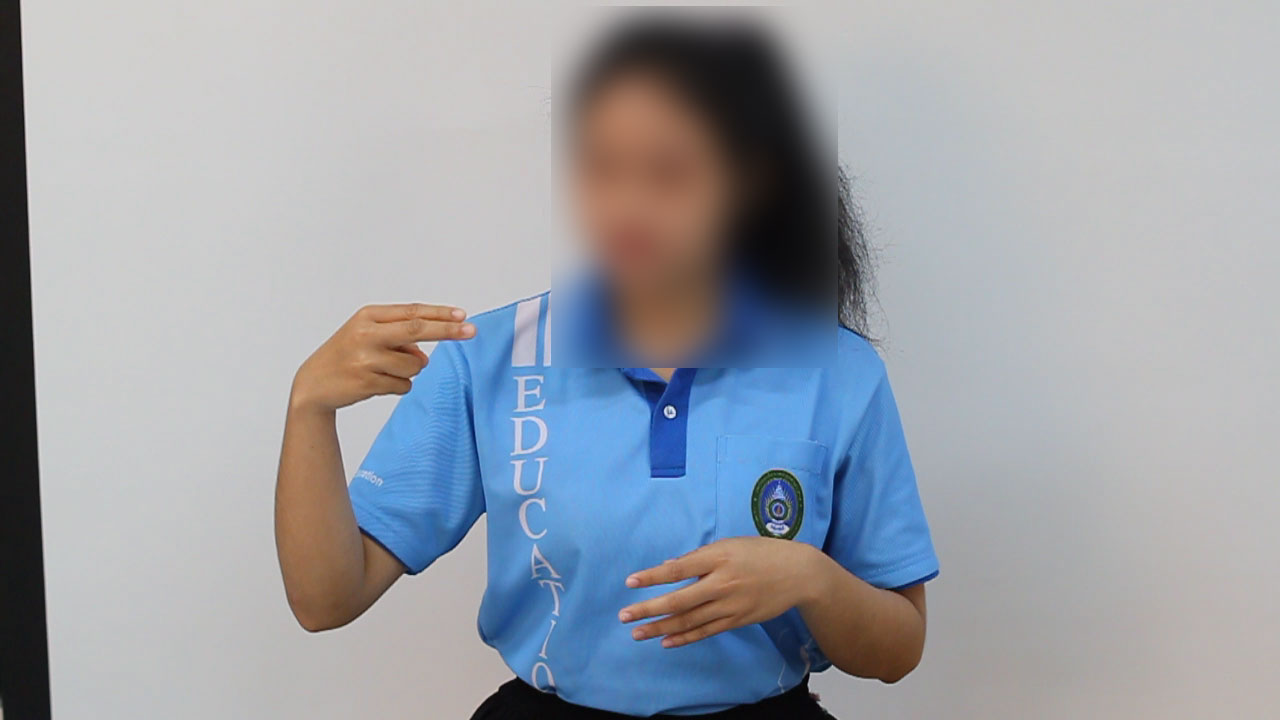hor: (264, 294, 491, 420)
